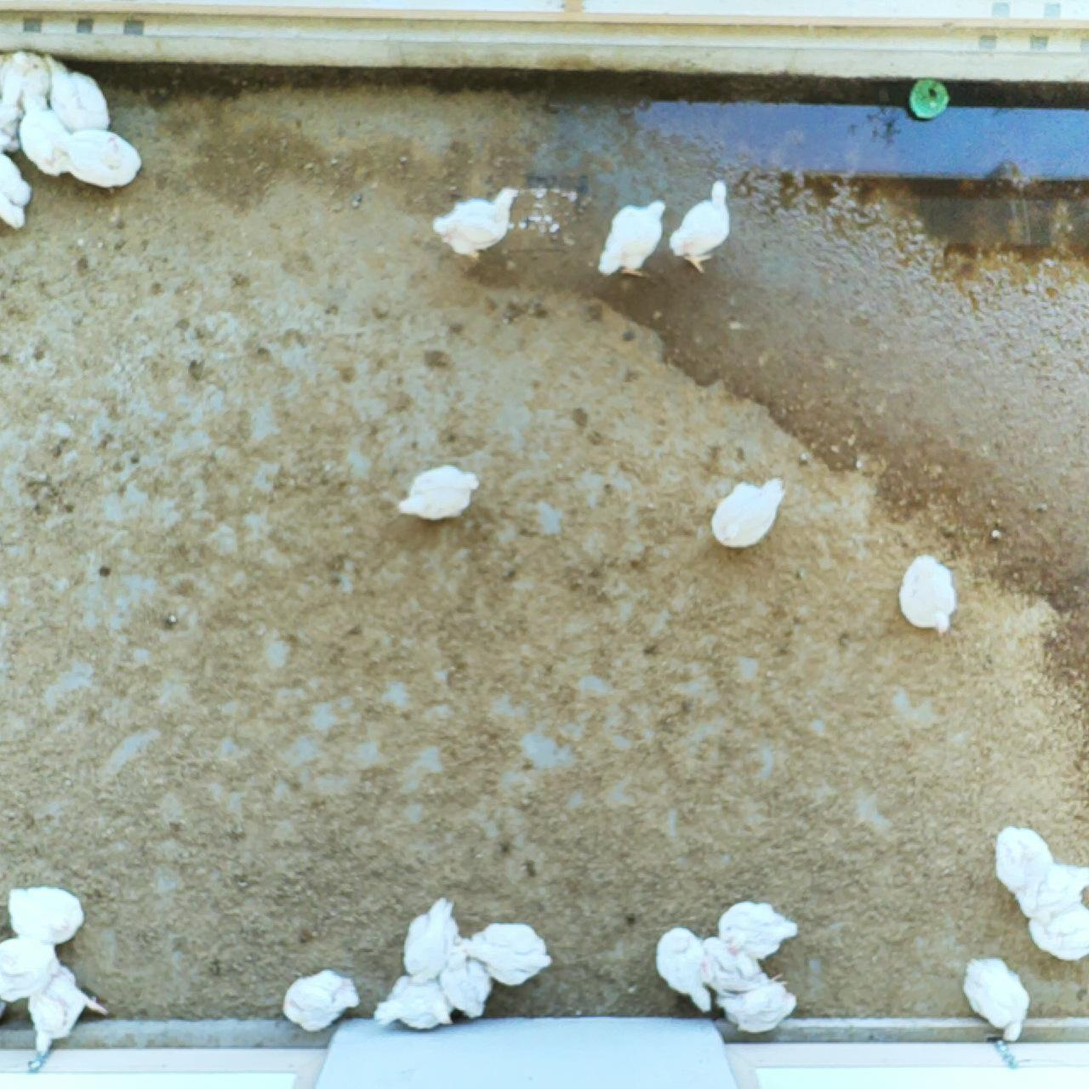chicken: (430, 186, 525, 261), (20, 972, 104, 1053), (282, 965, 365, 1035), (45, 58, 116, 137), (963, 958, 1033, 1038), (462, 921, 550, 984), (670, 185, 733, 272), (3, 881, 87, 946), (400, 898, 465, 978), (711, 480, 784, 550), (595, 202, 664, 276), (371, 973, 463, 1027), (58, 133, 143, 190), (658, 927, 715, 1010), (717, 975, 799, 1032), (1020, 862, 1089, 924), (398, 466, 481, 517), (903, 555, 955, 635), (721, 903, 795, 959), (705, 939, 771, 1001), (440, 946, 493, 1021), (1, 54, 66, 115), (1, 939, 61, 1000), (1029, 905, 1089, 965), (994, 824, 1041, 898), (21, 98, 63, 167), (1, 145, 31, 231), (1, 96, 25, 140)
